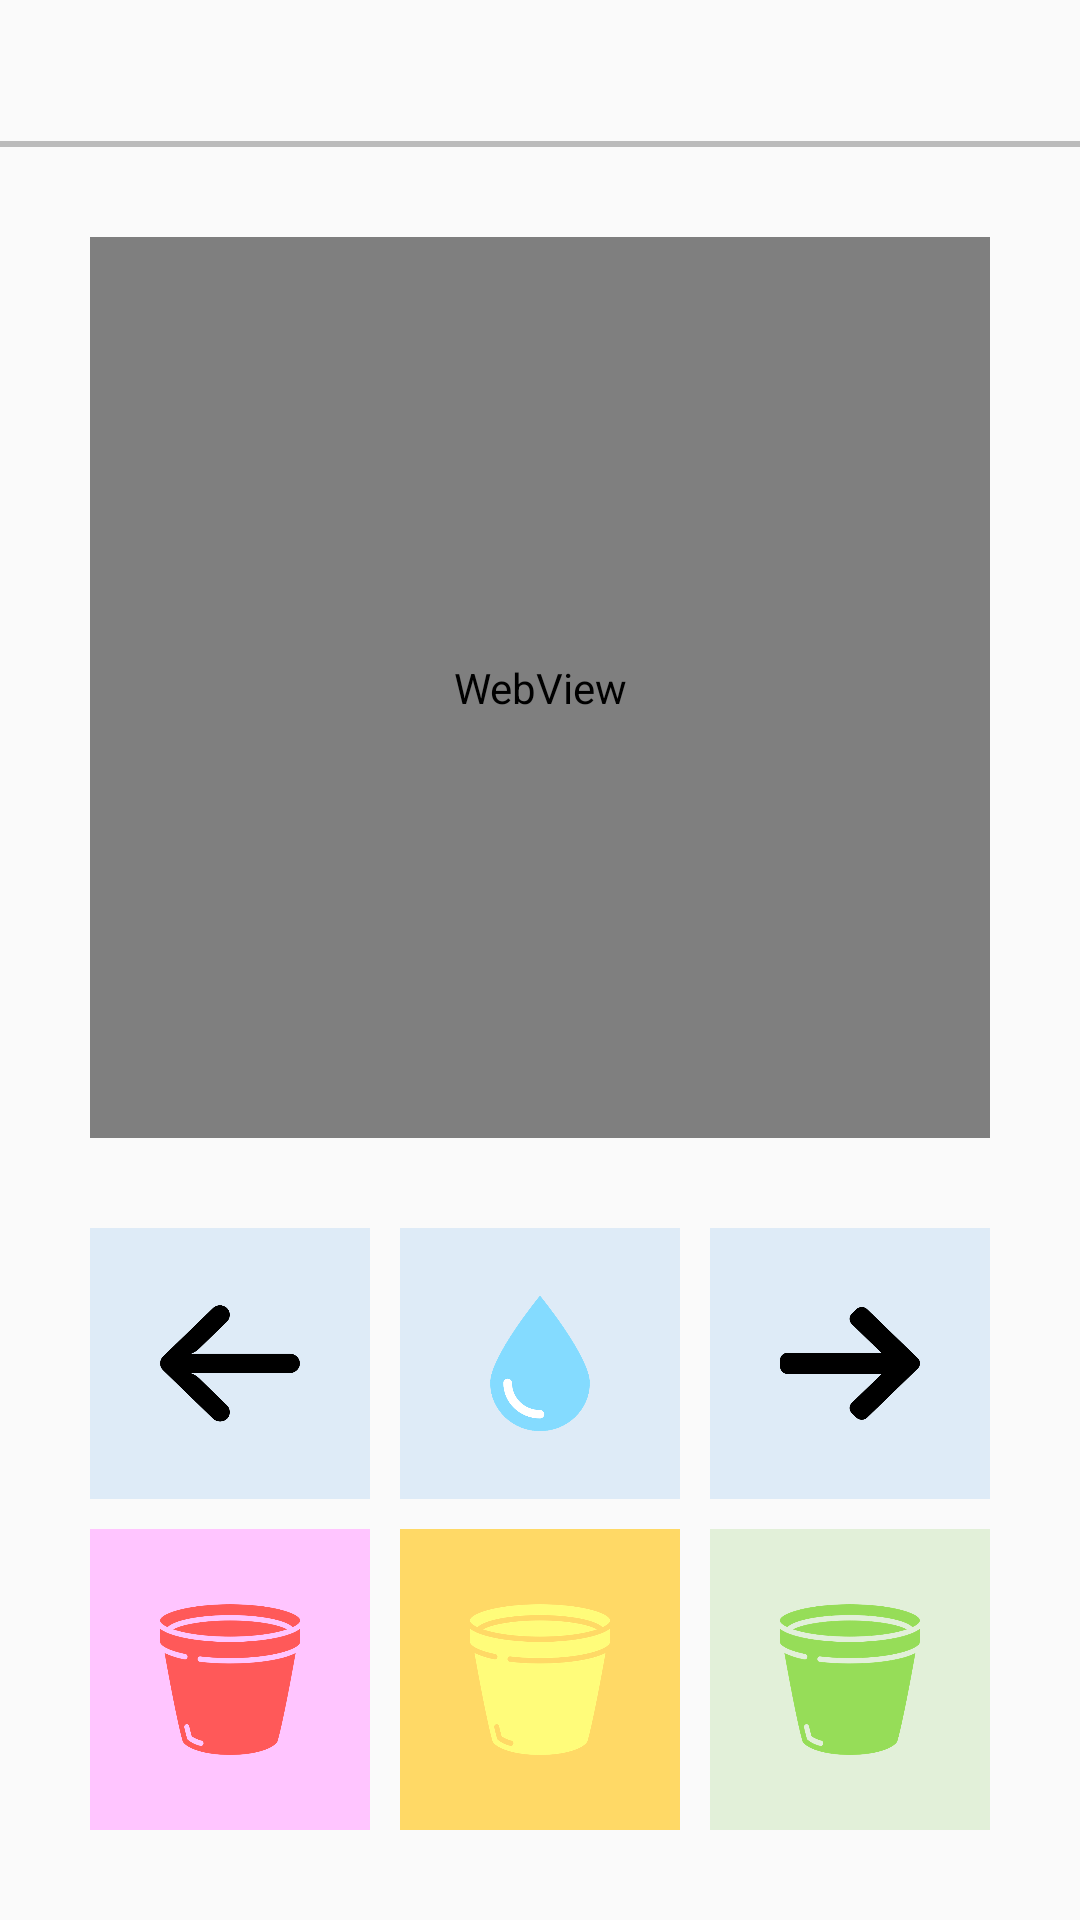

Icon bounding boxes for this 1080w x 1920h phone screenshot, format {"x1": x1, "y1": y1, "x2": x2, "y2": y2}:
pot: {"x1": 90, "y1": 1529, "x2": 370, "y2": 1830}, {"x1": 400, "y1": 1529, "x2": 680, "y2": 1830}, {"x1": 710, "y1": 1529, "x2": 990, "y2": 1830}
